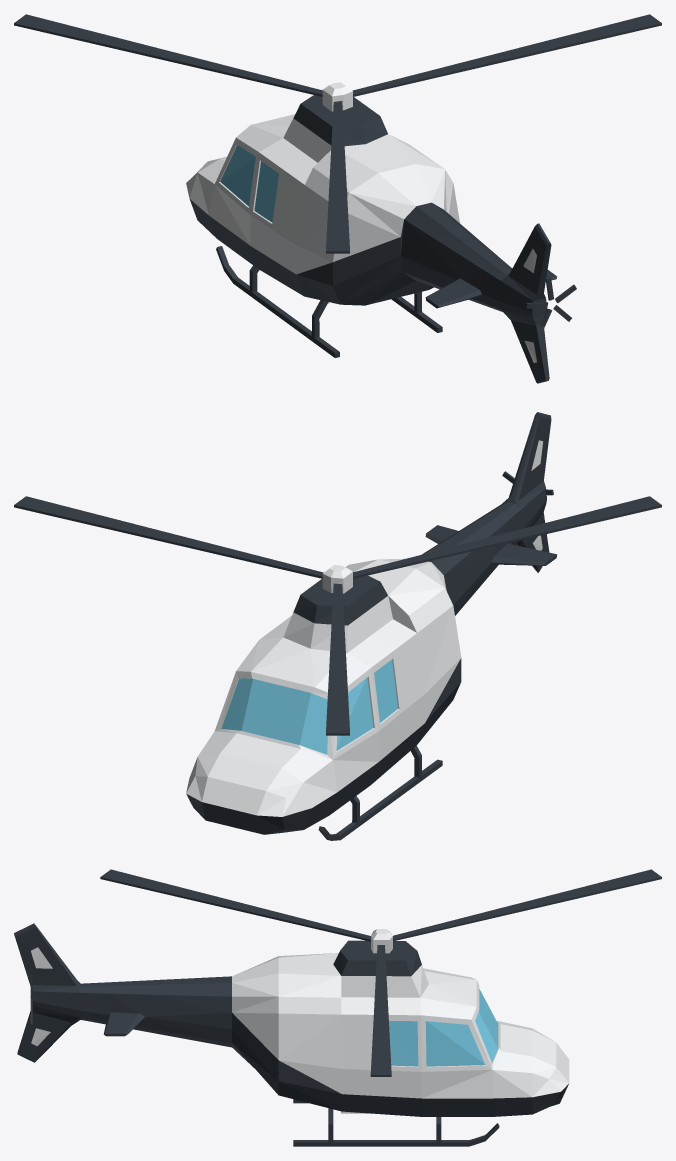
The model's file is helicopter_drop.glb.
The picture shows the model from 3 angles, top to bottom: view 1: azimuth 30°, elevation 25°; view 2: azimuth 150°, elevation 25°; view 3: azimuth 270°, elevation 25°; orthographic projection. The views are drawn at different scales.
Visible parts, largest first — view 1: FrameAndSkids, BodyPaint, MainRotor, Windows, TailRotor; view 2: BodyPaint, FrameAndSkids, MainRotor, Windows; view 3: BodyPaint, FrameAndSkids, MainRotor, Windows.
Part boxes in pixels (<box>): FrameAndSkids: <box>189,104,557,383</box>; BodyPaint: <box>186,82,536,362</box>; MainRotor: <box>14,14,661,253</box>; Windows: <box>220,145,278,222</box>; TailRotor: <box>525,277,576,327</box>; BodyPaint: <box>186,440,543,816</box>; FrameAndSkids: <box>186,412,557,840</box>; MainRotor: <box>14,496,661,735</box>; Windows: <box>221,659,397,754</box>; BodyPaint: <box>31,929,569,1098</box>; FrameAndSkids: <box>14,923,568,1146</box>; MainRotor: <box>100,869,661,1076</box>; Windows: <box>389,989,497,1066</box>.
Bounding box in the file's own units: 6.61 × 3 × 8.8.
